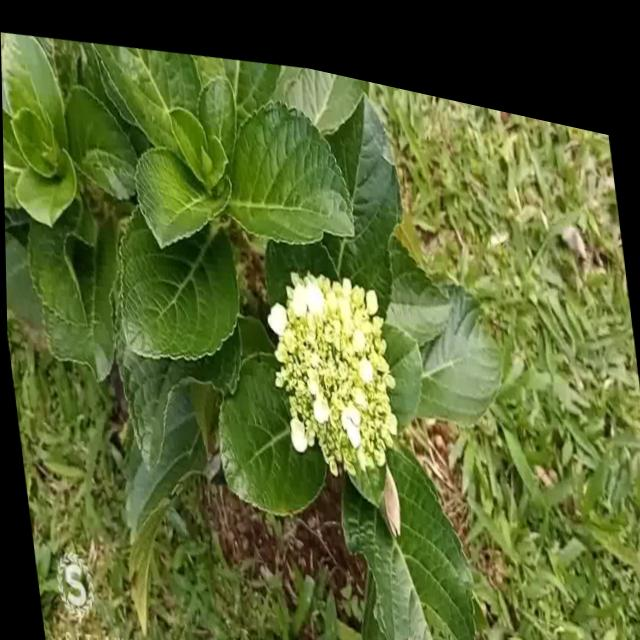Flower: (252, 232, 406, 485)
